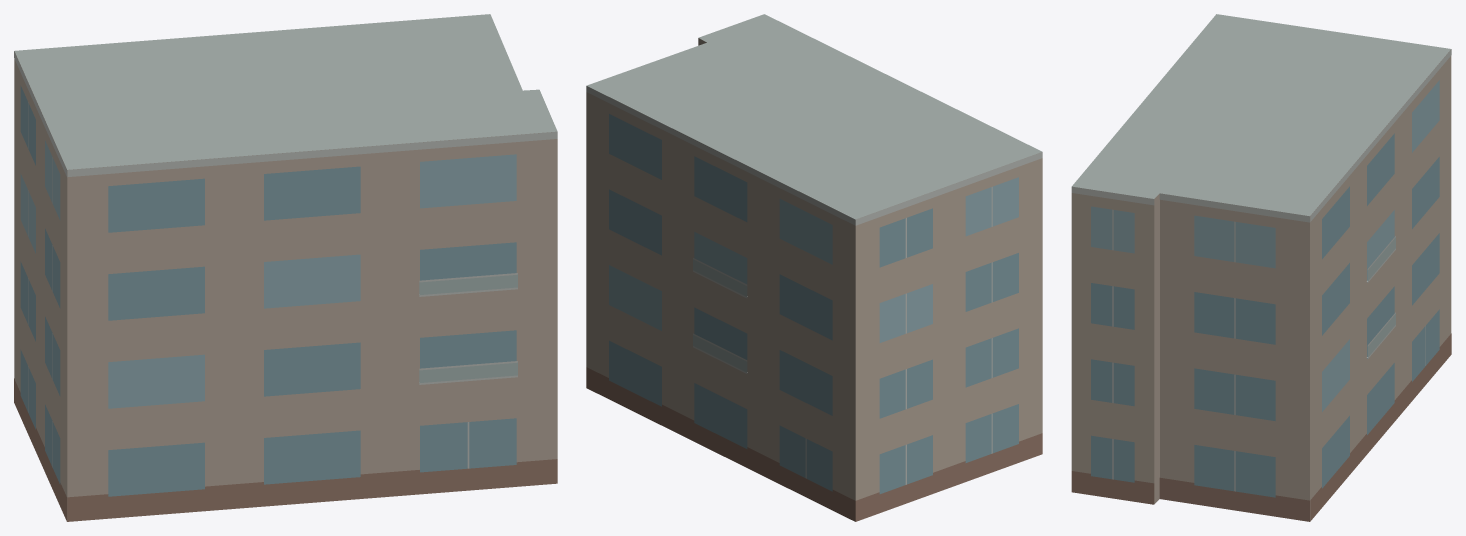
File: survey-upis-32911770.glb
3 views of the same model, side by side, from view 1: azimuth 30°, elevation 25°; view 2: azimuth 150°, elevation 25°; view 3: azimuth 270°, elevation 25° (orthographic). The views are drawn at different scales.
Visible parts, largest first — view 1: survey-upis-32911770.tmp; view 2: survey-upis-32911770.tmp; view 3: survey-upis-32911770.tmp.
Part boxes in pixels (x1,y1,x2,y2): survey-upis-32911770.tmp: [14, 14, 557, 521]; survey-upis-32911770.tmp: [586, 14, 1042, 521]; survey-upis-32911770.tmp: [1071, 14, 1451, 521].
Bounding box in the file's own units: 16.68 × 11.75 × 13.24.
